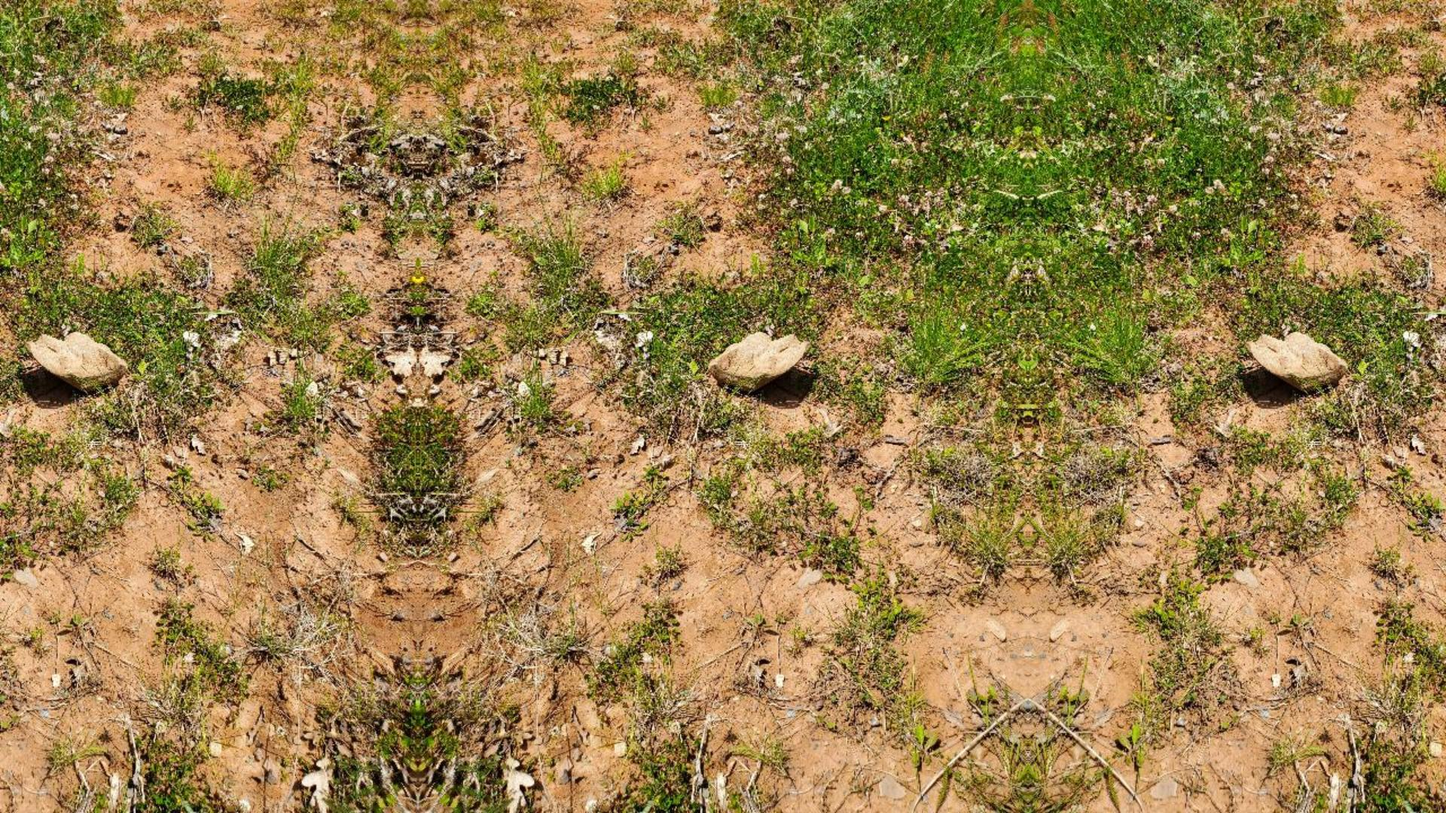rock: (27, 332, 127, 391), (707, 332, 808, 390), (1247, 332, 1345, 391)
